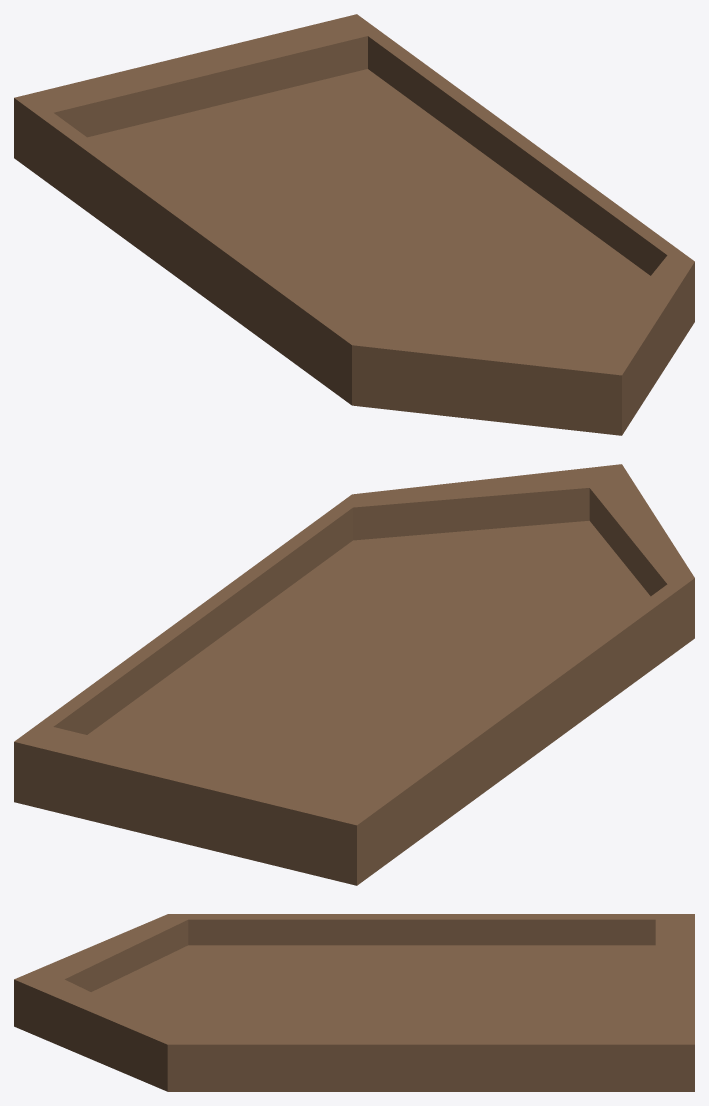
Rendered from Barco_plataforma.fbx.
The picture shows the model from 3 angles, top to bottom: view 1: azimuth 30°, elevation 25°; view 2: azimuth 150°, elevation 25°; view 3: azimuth 270°, elevation 25°; orthographic projection. The views are drawn at different scales.
Parts seen in each view (by area): view 1: pCube33; view 2: pCube33; view 3: pCube33.
Boxes of the visible parts, x1,y1,x2,y2 form: pCube33: (14,14,694,435); pCube33: (14,464,694,885); pCube33: (14,914,694,1091).
Size of the model in its own units: 1.63 by 0.2741 by 3.59.
